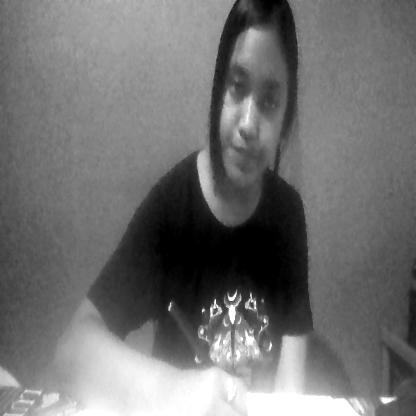Normal: (220, 31, 283, 204)
